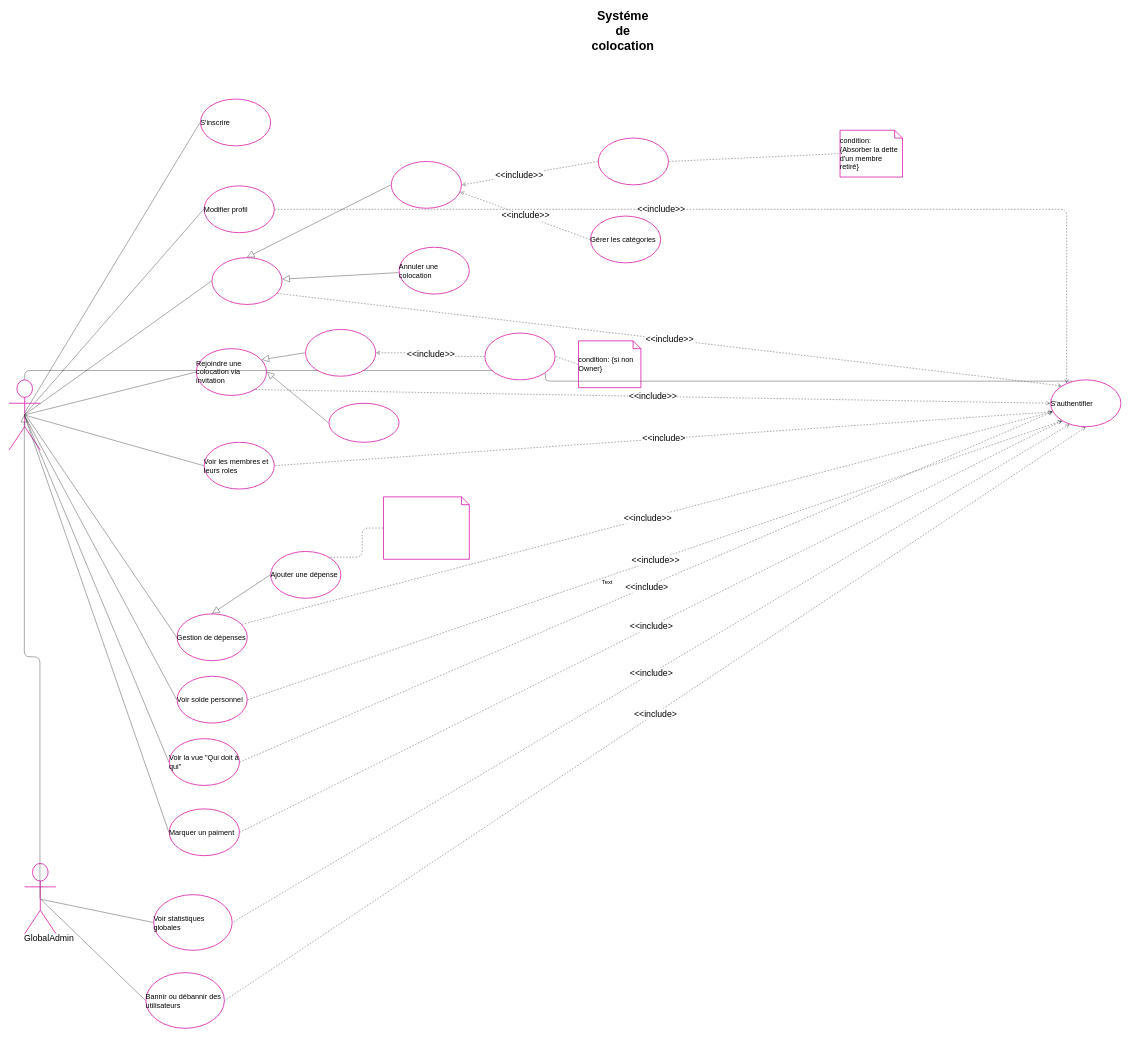
The diagram is 1130 pixels wide and 1037 high, and some of its shapes have lost their labels. Here are the shapes that lost their labels. From the top down, the centre of each, then its label:
At point 633,161: "Retirer un membre".
At point 426,184: "Créer une colocation".
At point 246,281: "Gestion colocation".
At point 340,352: "Accepter invitation".
At point 519,356: "Quitter une colocation".
At point 24,414: "User".
At point 363,422: "Refuser invitation".
At point 426,527: "condition: {seulment le utilisateur était un membre ou admin sur colocation}".
